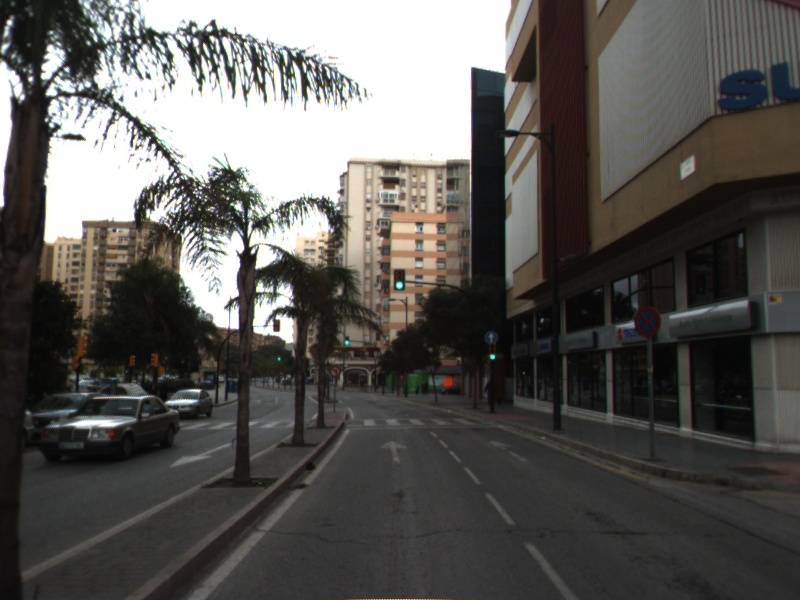STRAIGHT: (489, 438, 530, 463), (378, 438, 410, 465)
